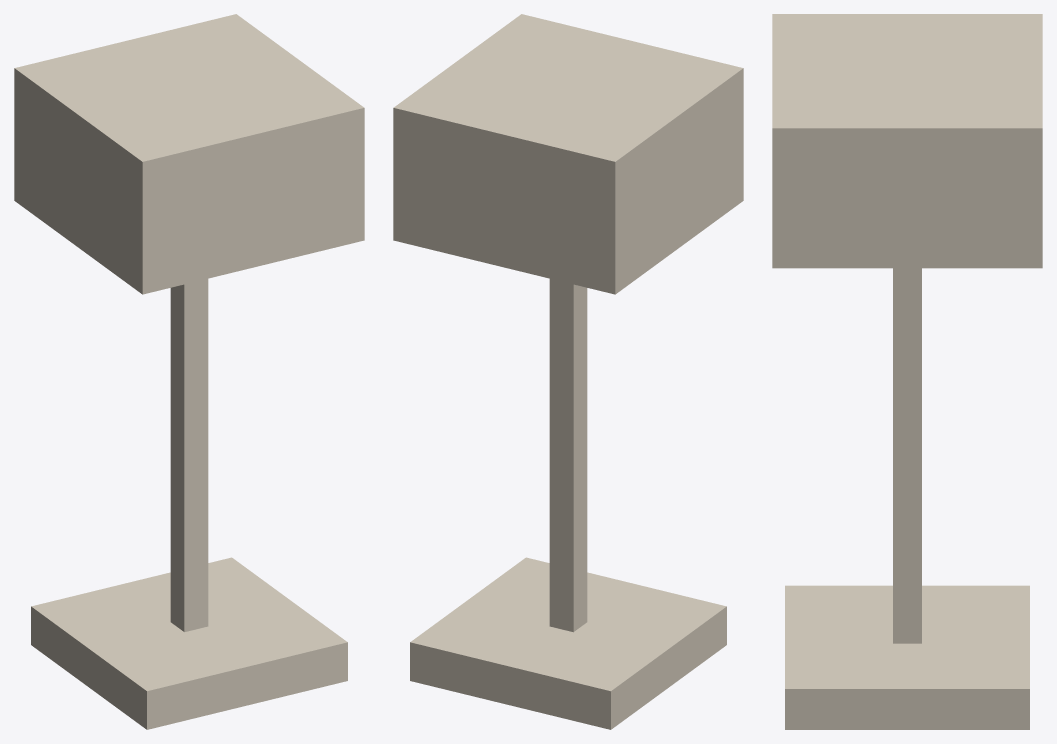
Rendered from lamp.glb.
3 renders of one model, left to right at view 1: azimuth 30°, elevation 25°; view 2: azimuth 150°, elevation 25°; view 3: azimuth 270°, elevation 25°, orthographic. The views are drawn at different scales.
Parts seen in each view (by area): view 1: lamp shade, lamp base, lamp stem; view 2: lamp shade, lamp base, lamp stem; view 3: lamp shade, lamp base, lamp stem.
Part boxes in pixels (bbox=[...]): lamp shade: bbox=[14, 14, 364, 294]; lamp base: bbox=[31, 557, 347, 729]; lamp stem: bbox=[170, 278, 208, 632]; lamp shade: bbox=[393, 14, 743, 294]; lamp base: bbox=[410, 557, 726, 729]; lamp stem: bbox=[549, 278, 587, 632]; lamp shade: bbox=[772, 14, 1042, 268]; lamp base: bbox=[785, 585, 1029, 729]; lamp stem: bbox=[893, 268, 921, 643].
Size of the model in its own units: 0.42 by 1.04 by 0.42.
